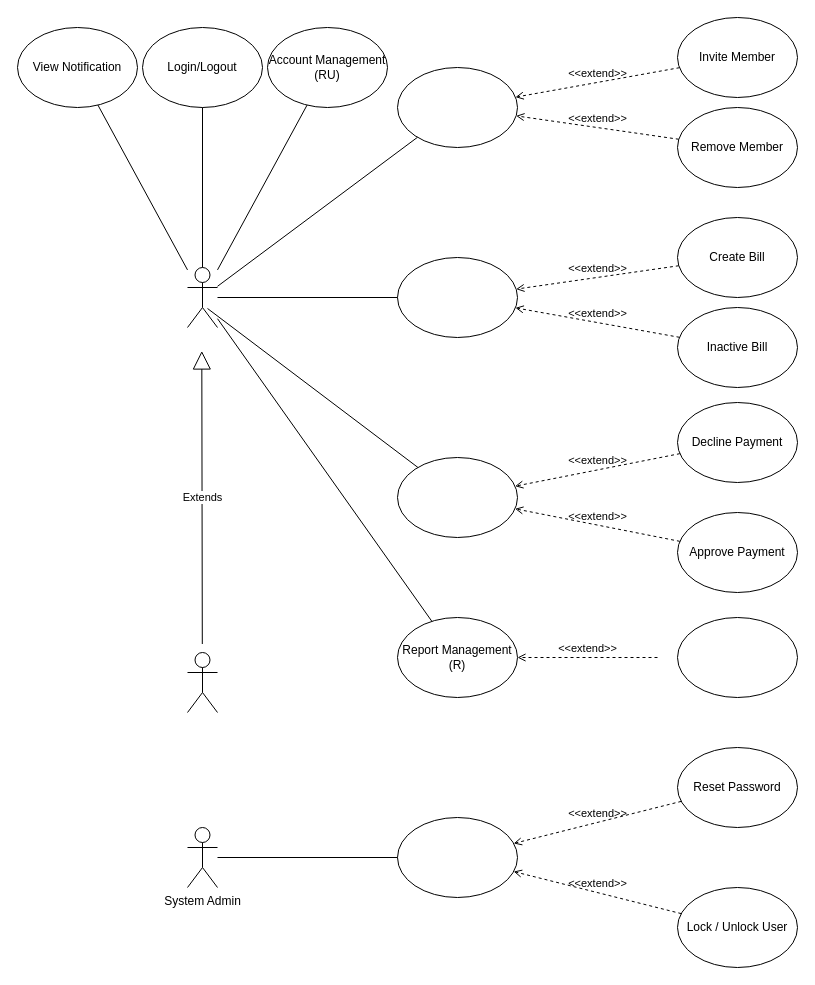
Some shapes in this 815 by 985 pixel diagram are drawn without their labels. The box of each missing label's shape, as (x1, y1, x2, y2) in pixels:
Bill Management (R): (396, 256, 518, 338)
Export Report: (676, 616, 798, 698)
Group Administrator: (186, 652, 218, 712)
Group Management: (396, 66, 518, 148)
Member: (186, 266, 218, 328)
Payment Management (CRUD): (396, 456, 518, 538)
User Management (CRUD): (396, 816, 518, 898)
